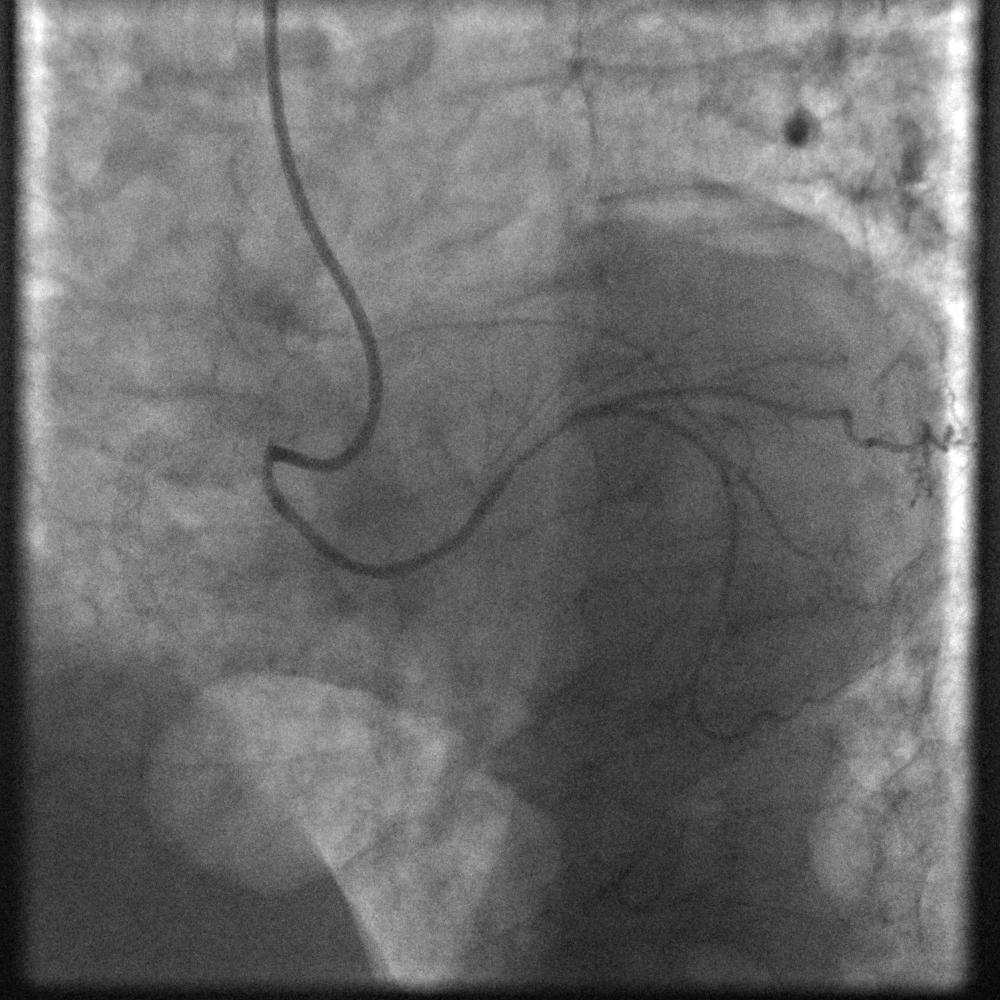Stenosis: (514, 417, 570, 468)
